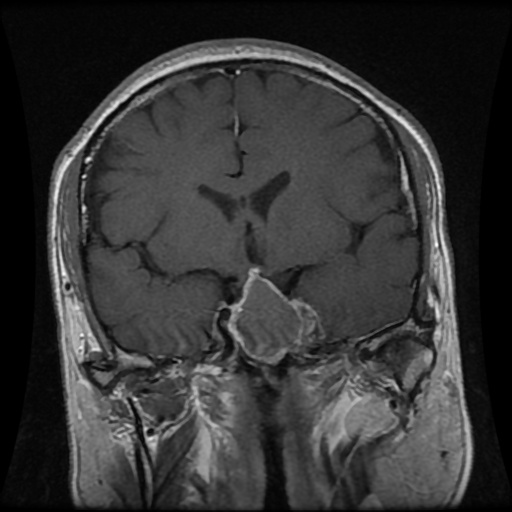pituitary: (228, 268, 324, 363)
